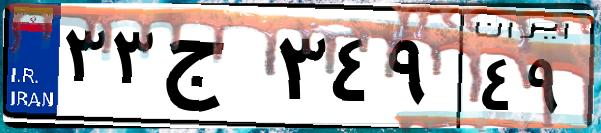3: (270, 28, 330, 110), (57, 26, 110, 100), (110, 28, 158, 98)
4: (330, 28, 385, 110), (475, 38, 525, 113)
9: (385, 28, 445, 110), (525, 38, 570, 115)
ج: (158, 20, 270, 120)
